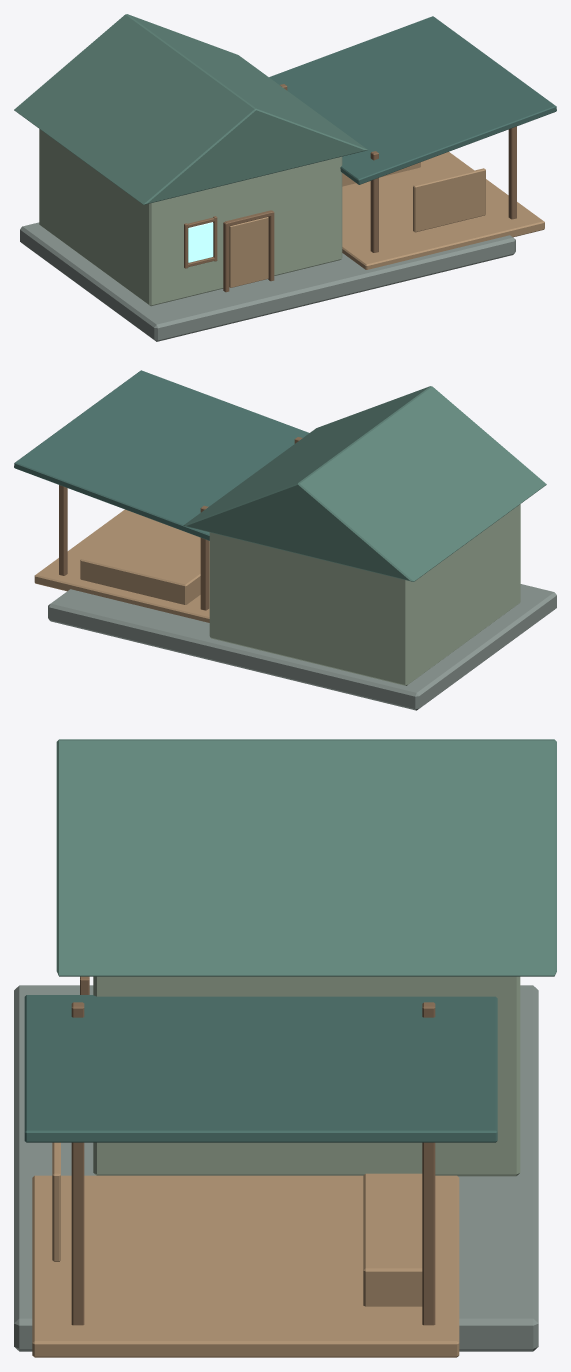
Rendered from LumenRoadWayhouse.glb.
3 views of the same model, one above another, from view 1: azimuth 30°, elevation 25°; view 2: azimuth 150°, elevation 25°; view 3: azimuth 270°, elevation 25° (orthographic). The views are drawn at different scales.
Parts seen in each view (by area): view 1: LumenRoadWayhouse; view 2: LumenRoadWayhouse; view 3: LumenRoadWayhouse.
Boxes of the visible parts, x1=… form: LumenRoadWayhouse: x1=14, y1=14, x2=556, y2=341; LumenRoadWayhouse: x1=14, y1=370, x2=556, y2=710; LumenRoadWayhouse: x1=14, y1=739, x2=556, y2=1357.
Bounding box in the file's own units: 29.35 × 13.76 × 17.8.
